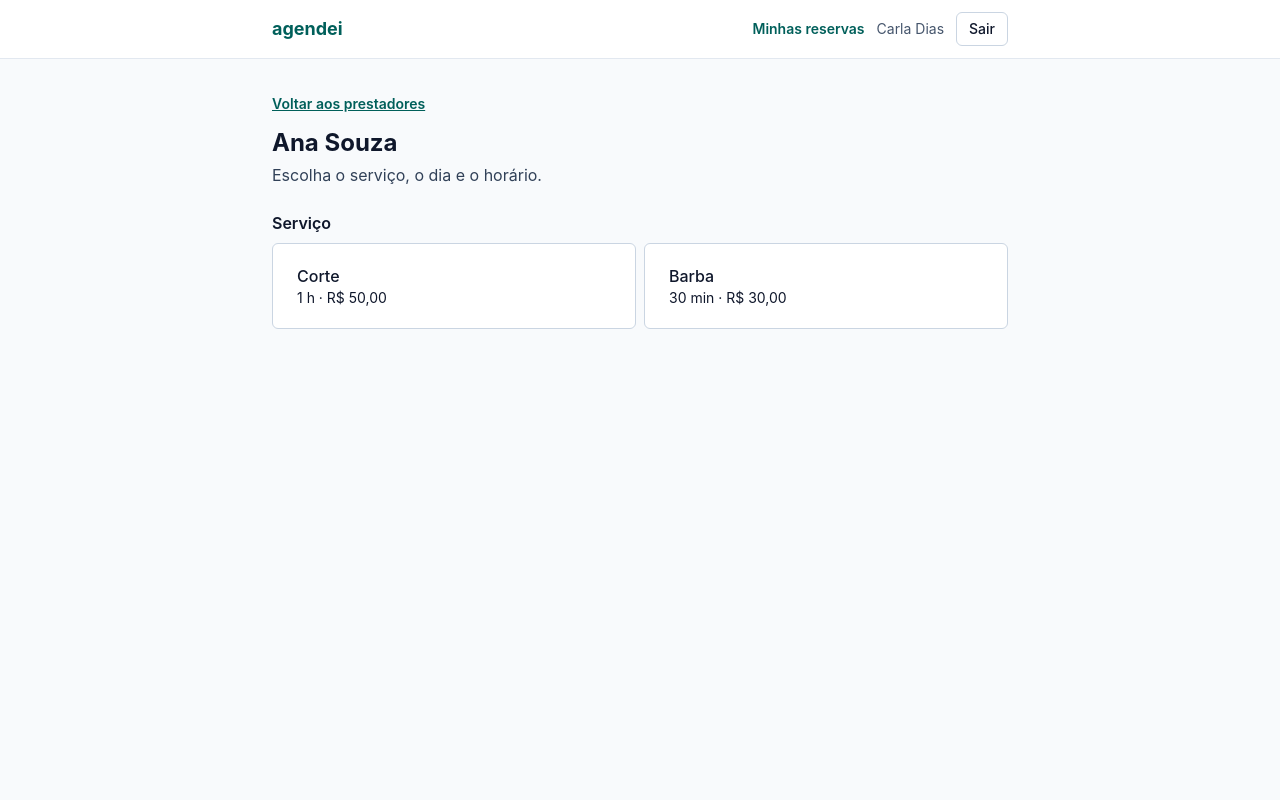
Test: reservar um horário › dia sem atendimento mostra "Sem horários" e nenhuma lista (US05)
Click the radio button labelled "Corte 1 h · R$ 50,00": (318, 276) top-left (272, 243), bottom-right (636, 329)
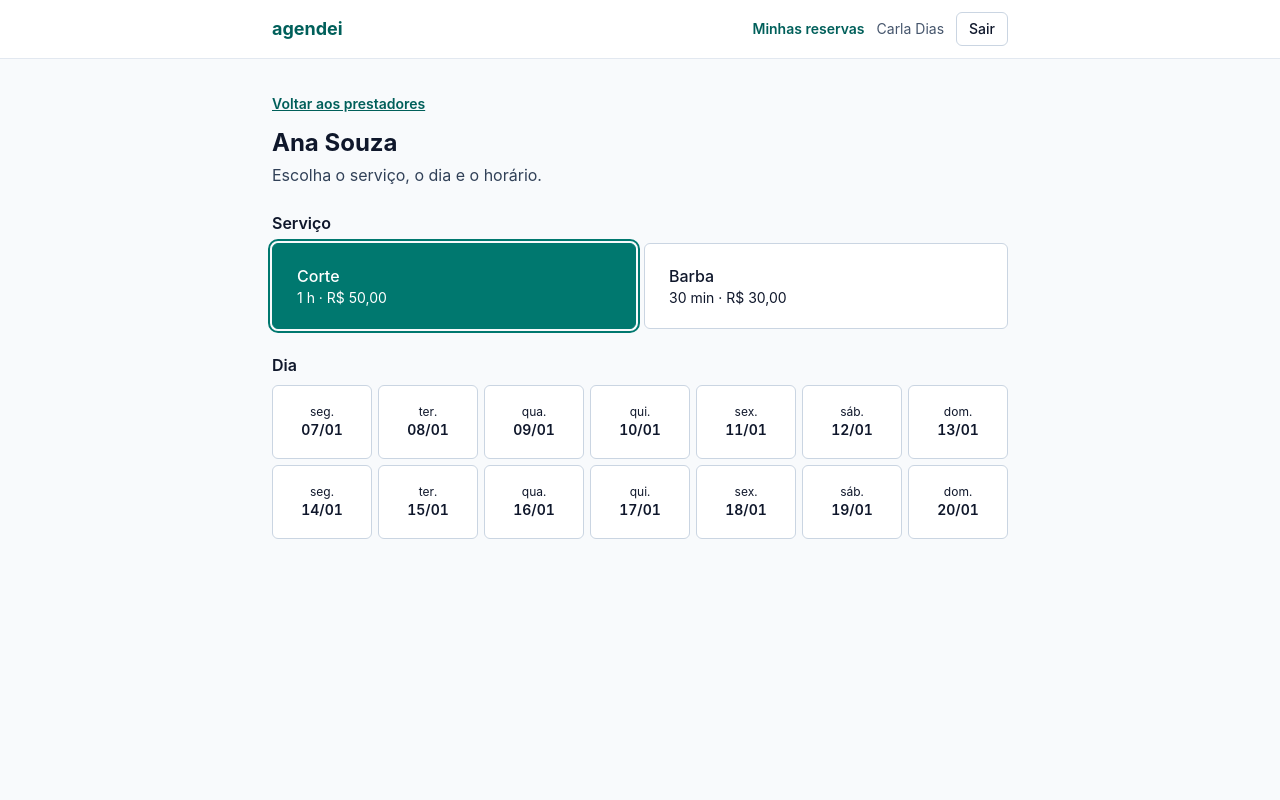
Click the radio button named "segunda-feira, 7 de janeiro": (322, 422) top-left (272, 385), bottom-right (372, 459)
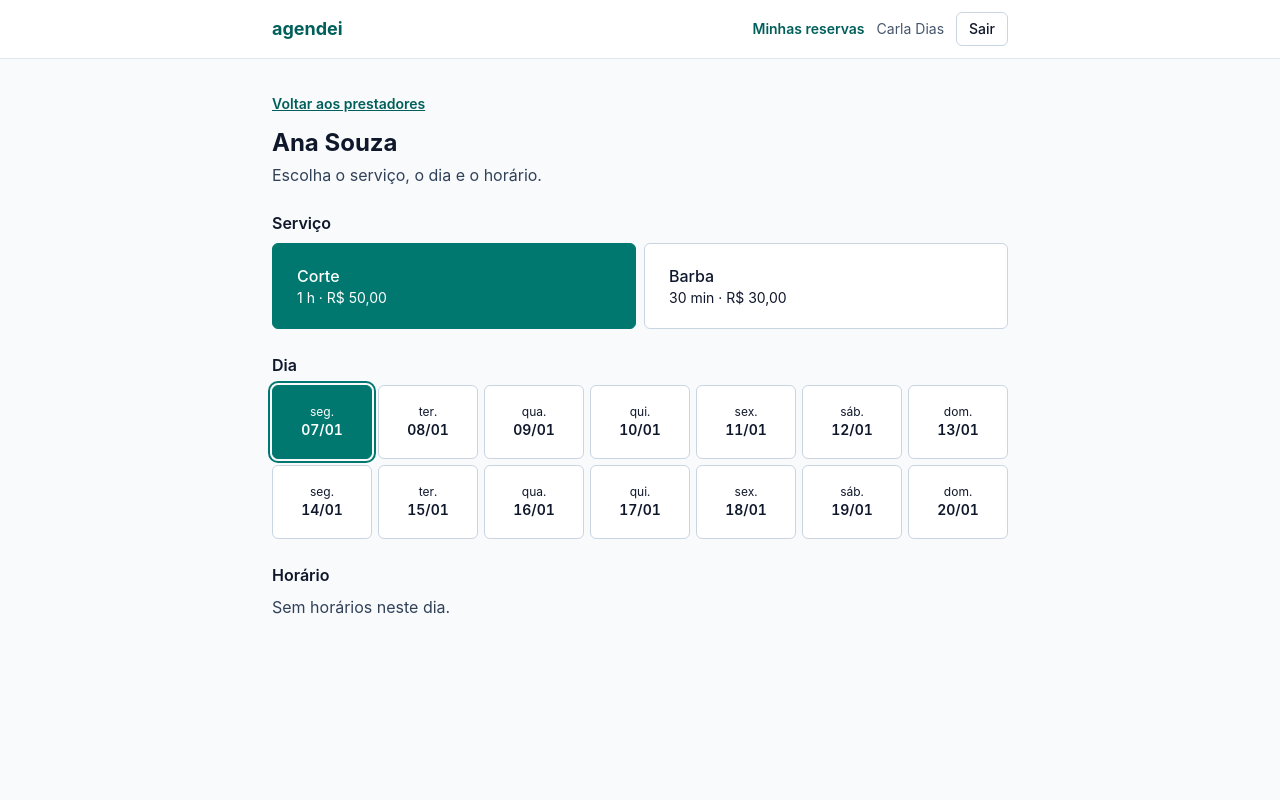
Now the text "Sem horários neste dia." is shown, box top-left (272, 597), bottom-right (450, 617)
